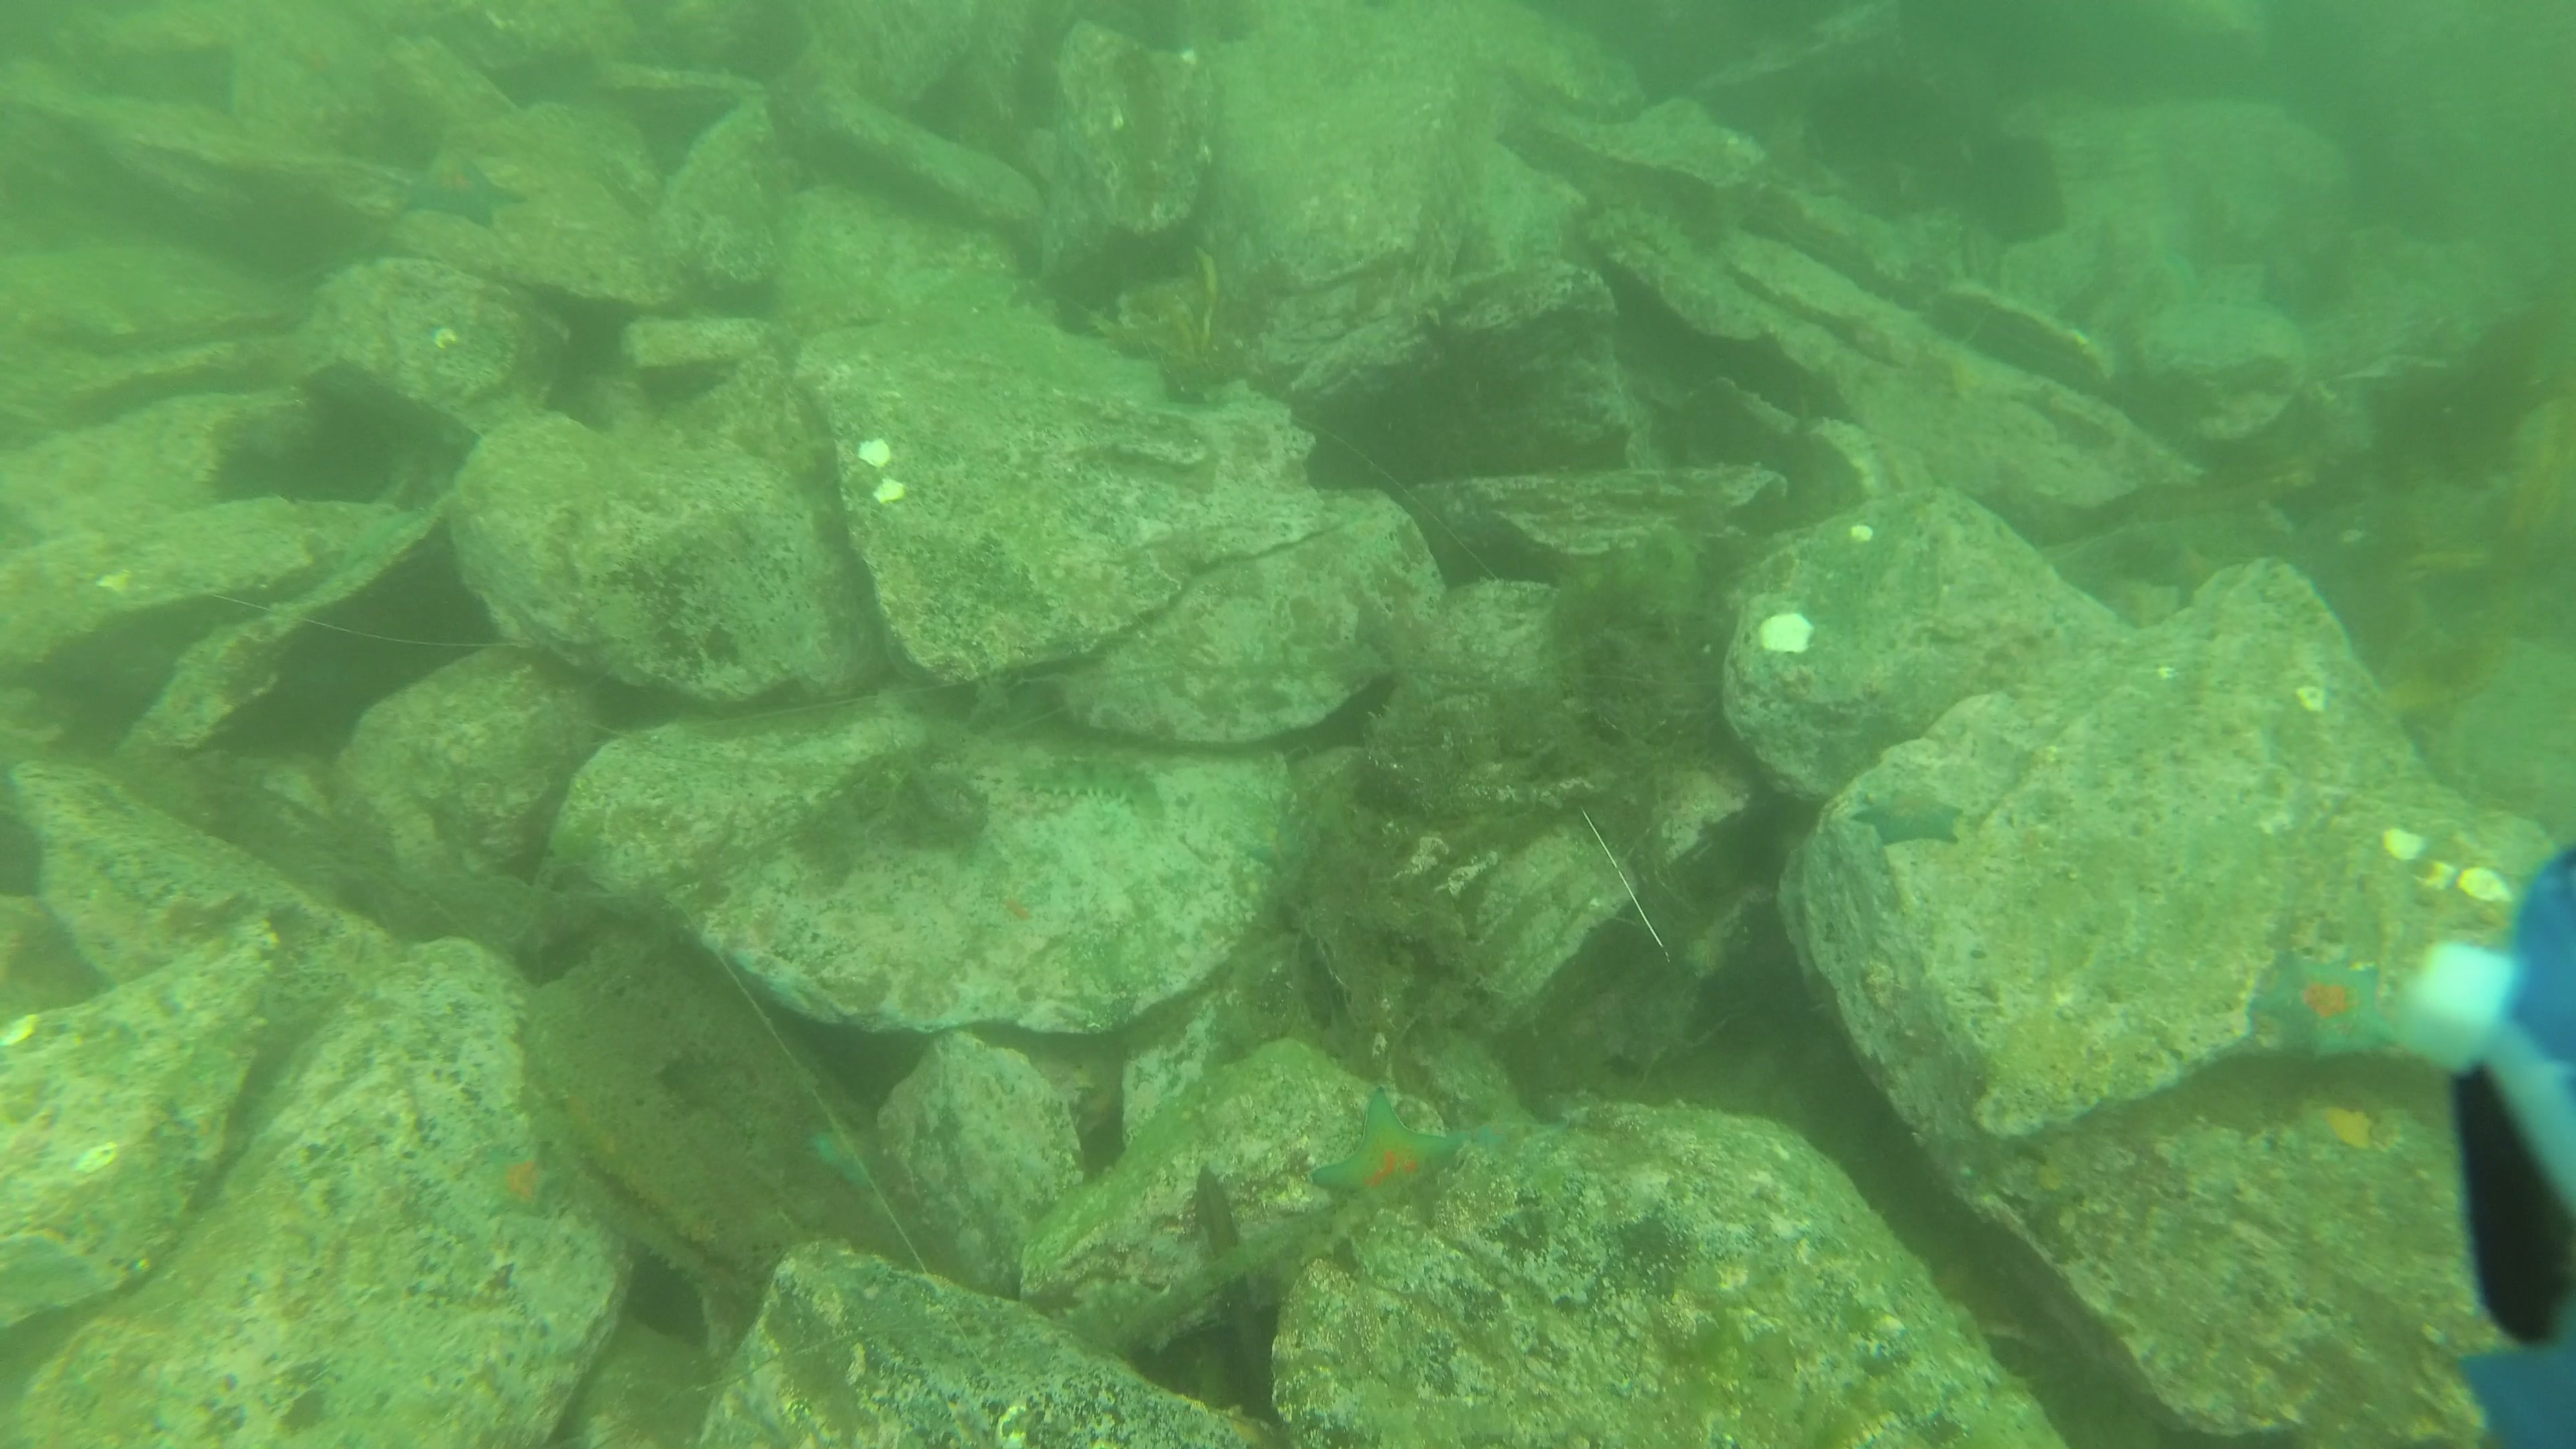holothurian: (1014, 754, 1168, 823)
starfish: (1306, 1088, 1468, 1219), (2247, 936, 2410, 1063), (393, 147, 529, 232), (1851, 780, 1973, 849), (471, 1143, 571, 1224), (801, 1118, 883, 1196)
